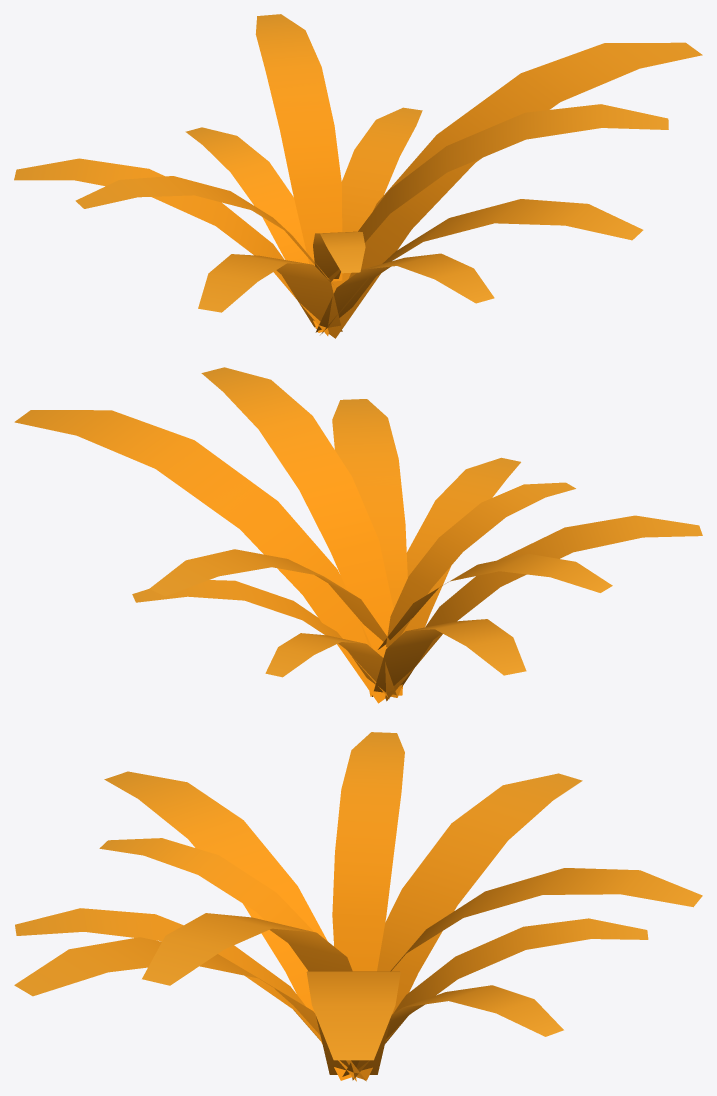
Rendered from plant03.fbx.
The picture shows the model from 3 angles, top to bottom: view 1: azimuth 30°, elevation 25°; view 2: azimuth 150°, elevation 25°; view 3: azimuth 270°, elevation 25°; orthographic projection. The views are drawn at different scales.
Parts seen in each view (by area): view 1: Plant03; view 2: Plant03; view 3: Plant03.
Part boxes in pixels (x1,y1,x2,y2): Plant03: [14, 14, 702, 338]; Plant03: [14, 367, 702, 703]; Plant03: [14, 732, 702, 1081].
Bounding box in the file's own units: 68.27 × 23.08 × 56.77.
